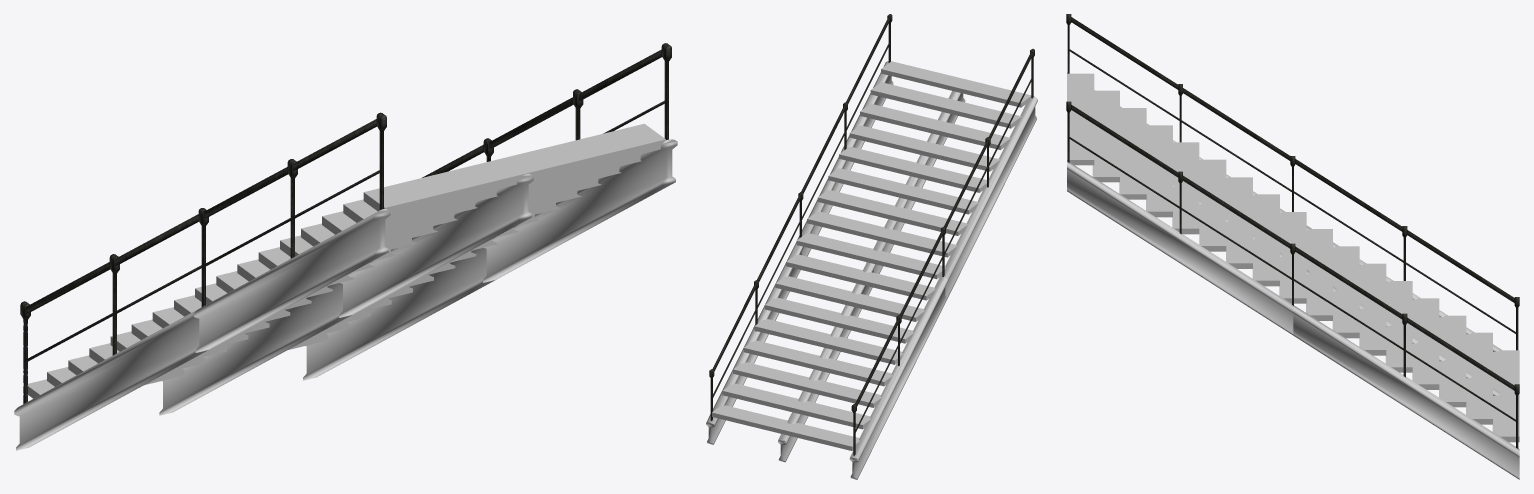
File: engineroom_balcony_stairs_01.DAE
3 views of the same model, side by side, from view 1: azimuth 30°, elevation 25°; view 2: azimuth 150°, elevation 25°; view 3: azimuth 270°, elevation 25° (orthographic). The views are drawn at different scales.
Parts seen in each view (by area): view 1: balcony_straight_metal020, balcony_straight_rail002; view 2: balcony_straight_metal020, balcony_straight_rail002; view 3: balcony_straight_metal020, balcony_straight_rail002.
Part boxes in pixels (<box>): balcony_straight_metal020: <box>14,123,677,450</box>; balcony_straight_rail002: <box>20,43,671,403</box>; balcony_straight_metal020: <box>706,61,1037,479</box>; balcony_straight_rail002: <box>709,14,1034,455</box>; balcony_straight_metal020: <box>1067,72,1519,479</box>; balcony_straight_rail002: <box>1066,14,1519,448</box>.
Size of the model in its own units: 4.27 by 8.01 by 8.76.
